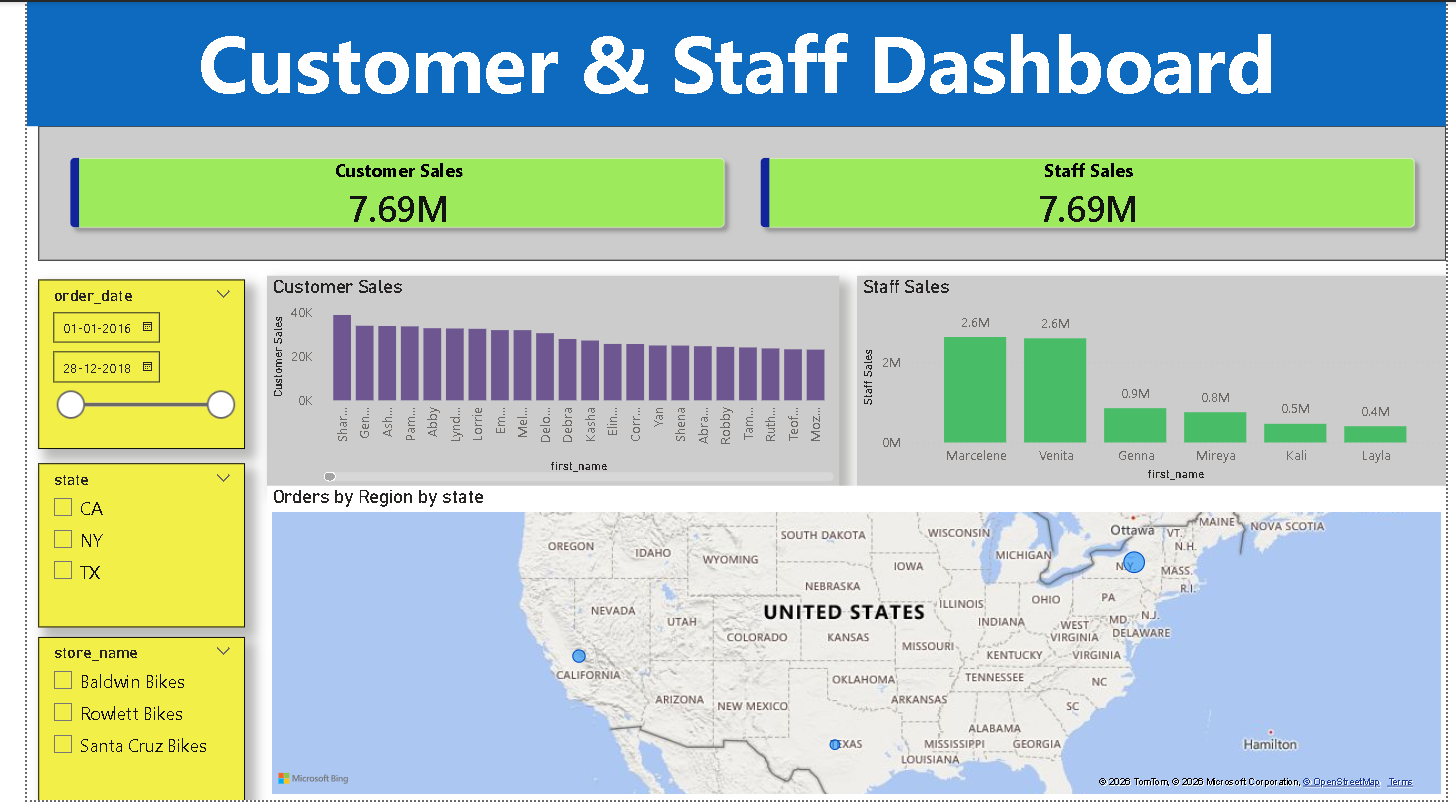

The page's visual inventory and layout, read from the dashboard file:
{"tool":"powerbi","page":{"name":"Customer & Staff Dashboard","canvas":[1280,720],"ordinal":2},"visuals":[{"type":"cardVisual","fields":{"Data":["DAX.Customer Sales","DAX.Staff Sales"]},"box":[10,112,1270.1,121.9],"z":0},{"type":"columnChart","title":"Customer Sales","fields":{"Category":["customers.first_name"],"Y":["DAX.Customer Sales"]},"box":[216.4,246.3,516.2,190.3],"z":1000},{"type":"columnChart","title":"Staff Sales","fields":{"Category":["staffs.first_name"],"Y":["DAX.Staff Sales"]},"box":[748.9,246.3,531.2,190.3],"z":2000},{"type":"map","fields":{"Category":["stores.state"],"Size":["DAX.Orders by Region"]},"box":[216.4,436.6,1063.6,283.6],"z":3000},{"type":"slicer","fields":{"Values":["orders.order_date"]},"box":[10,250,186.6,153],"z":4000},{"type":"slicer","fields":{"Values":["stores.state"]},"box":[10,415.5,186.6,148],"z":5000},{"type":"slicer","fields":{"Values":["stores.store_name"]},"box":[10,572.2,186.6,148],"z":6000},{"type":"textbox","box":[0,0,1280,112],"z":7000}]}

Visuals, with their boxes in screenshot pixels (x1, y1, x2, y2), scaled from the page's 1280x720 canvas onto the 1456x809 screenshot:
cardVisual - DAX.Customer Sales x DAX.Staff Sales: (x1=11, y1=126, x2=1455, y2=263)
"Customer Sales" columnChart: (x1=246, y1=277, x2=833, y2=491)
"Staff Sales" columnChart: (x1=852, y1=277, x2=1455, y2=491)
map - stores.state x DAX.Orders by Region: (x1=246, y1=491, x2=1455, y2=808)
slicer - orders.order_date: (x1=11, y1=281, x2=224, y2=453)
slicer - stores.state: (x1=11, y1=467, x2=224, y2=633)
slicer - stores.store_name: (x1=11, y1=643, x2=224, y2=808)
textbox: (x1=0, y1=0, x2=1455, y2=126)
